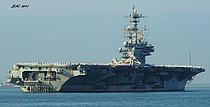MIL_Ship: (8, 4, 206, 93)
